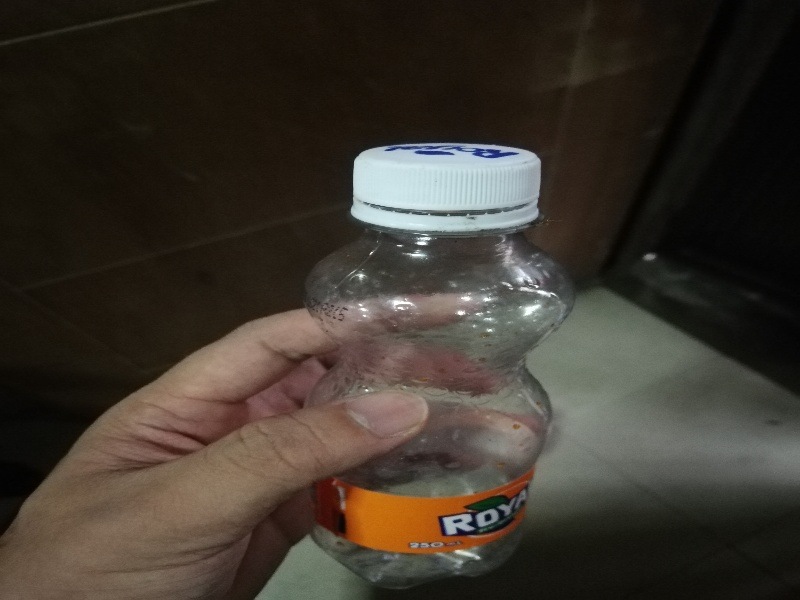PET #1: (294, 127, 568, 589)
